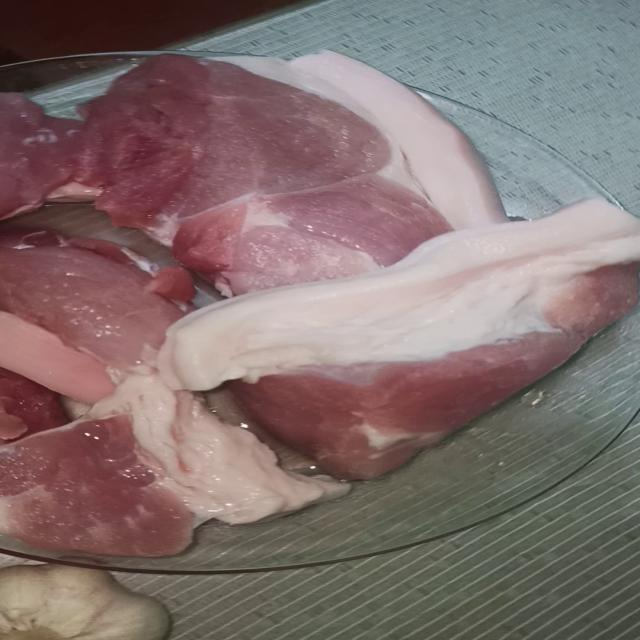pork: (38, 47, 486, 280), (180, 268, 640, 446), (0, 382, 276, 570), (0, 223, 196, 447), (0, 88, 92, 230)
